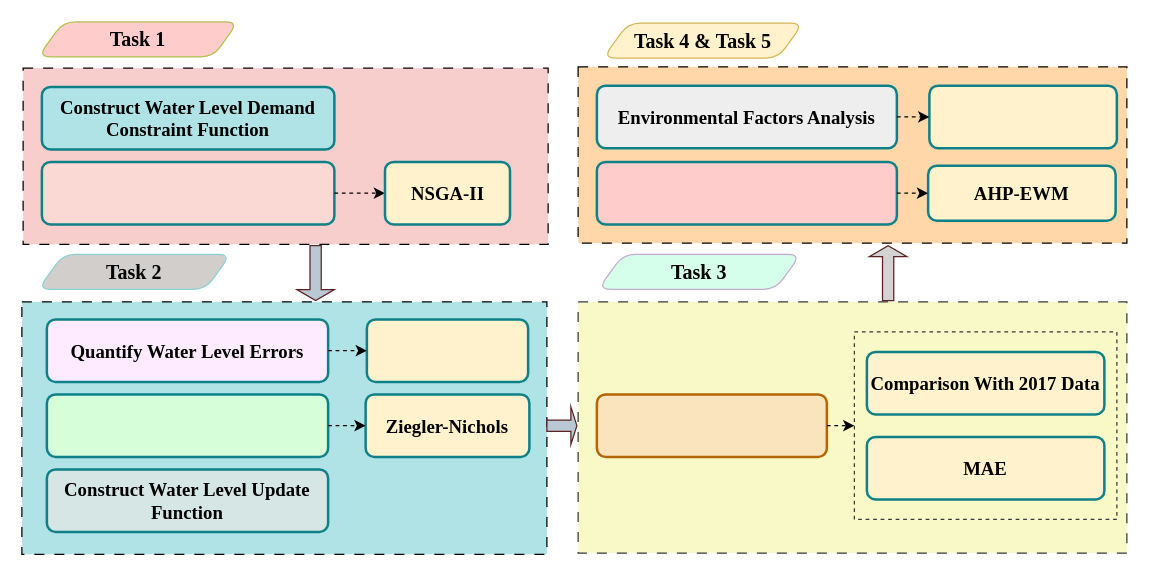
Some shapes in this 1149 by 576 pixel diagram are drawn without their labels. The centre of each missing label's shape, as x and y in pixels:
Calculate Optimal Water Level: [187,192]
Evaluation Of Control Algorithms: [711,425]
Lake Ontario Stakeholder Needs Analysis: [746,192]
Linear Regression: [1023,116]
Optimized PID Parameters: [187,425]
PID Controller: [447,350]
